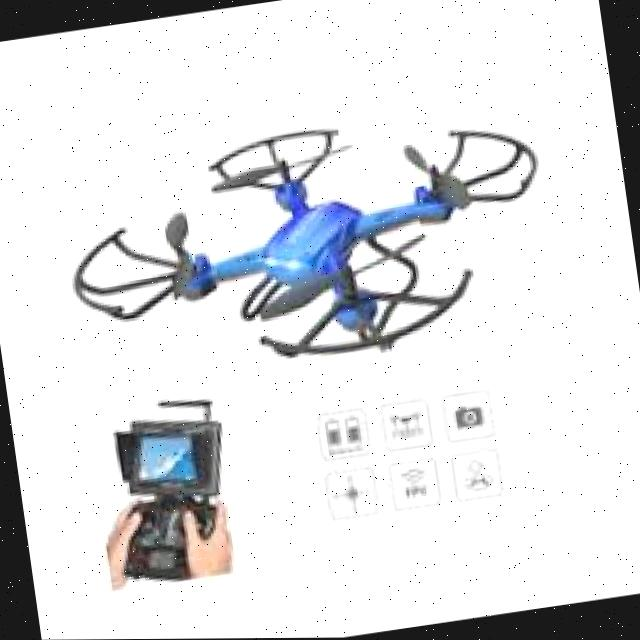drone: (29, 62, 593, 396)
